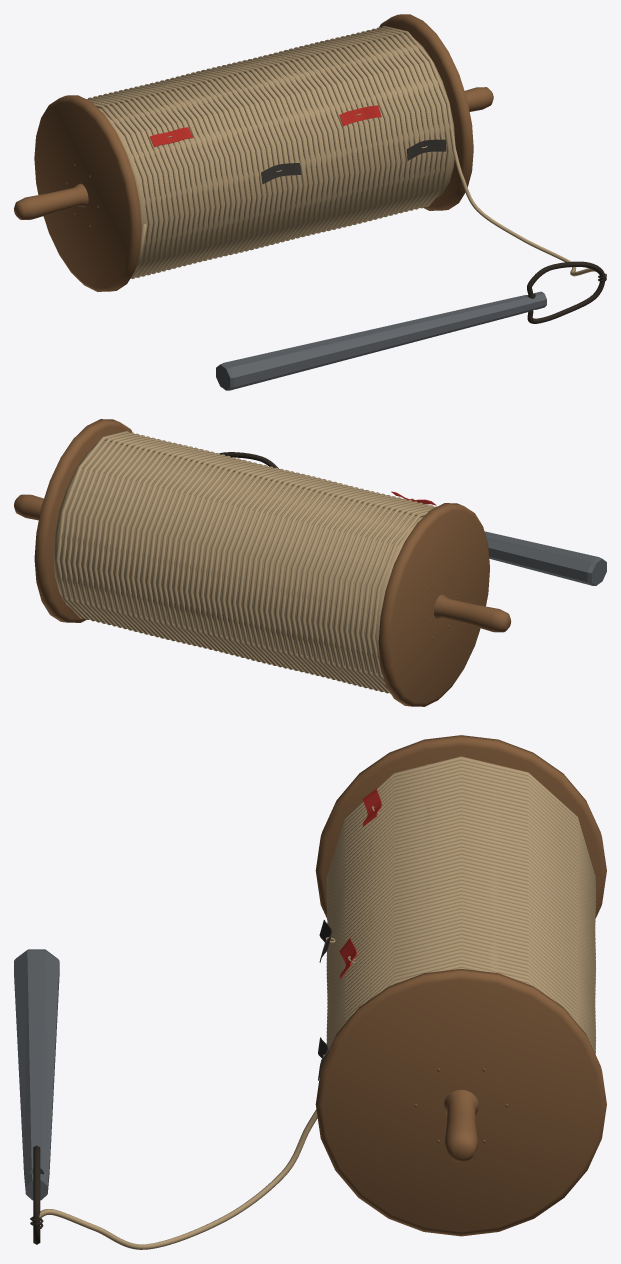
Rendered from NEW684_SoundingLine_LOD2_v001.glb.
3 views of the same model, one above another, from view 1: azimuth 30°, elevation 25°; view 2: azimuth 150°, elevation 25°; view 3: azimuth 270°, elevation 25° (orthographic). The views are drawn at different scales.
Parts seen in each view (by area): view 1: Continuous_marked_sounding_line, Concealed_winding_bulk, Wood_flange_-1, Tapered_octagonal_sounding_lead, Wood_flange_1, Reel_shaft_handles, Served_lead_strop, Cloth_depth_marker_02, Cloth_depth_marker_01; view 2: Continuous_marked_sounding_line, Concealed_winding_bulk, Wood_flange_-1, Wood_flange_1, Tapered_octagonal_sounding_lead, Reel_shaft_handles; view 3: Wood_flange_1, Continuous_marked_sounding_line, Wood_flange_-1, Tapered_octagonal_sounding_lead, Reel_shaft_handles, Served_lead_strop, Concealed_winding_bulk.
Part boxes in pixels (x1,y1,x2,y2): Continuous_marked_sounding_line: (86, 26, 595, 278); Concealed_winding_bulk: (98, 30, 455, 269); Wood_flange_-1: (34, 95, 141, 291); Tapered_octagonal_sounding_lead: (216, 291, 546, 390); Wood_flange_1: (379, 14, 473, 210); Reel_shaft_handles: (14, 87, 493, 219); Served_lead_strop: (527, 261, 605, 323); Cloth_depth_marker_02: (339, 105, 381, 126); Cloth_depth_marker_01: (261, 163, 301, 183); Continuous_marked_sounding_line: (55, 431, 436, 693); Concealed_winding_bulk: (53, 435, 426, 684); Wood_flange_-1: (378, 503, 489, 706); Wood_flange_1: (34, 419, 132, 622); Tapered_octagonal_sounding_lead: (484, 531, 606, 585); Reel_shaft_handles: (14, 494, 511, 632); Wood_flange_1: (315, 968, 606, 1236); Continuous_marked_sounding_line: (39, 756, 595, 1249); Wood_flange_-1: (315, 735, 606, 918); Tapered_octagonal_sounding_lead: (14, 949, 59, 1200); Reel_shaft_handles: (443, 1089, 478, 1162); Served_lead_strop: (33, 1145, 40, 1244); Concealed_winding_bulk: (369, 763, 552, 998).
Size of the model in its own units: 0.8 by 0.3023 by 0.6006.
